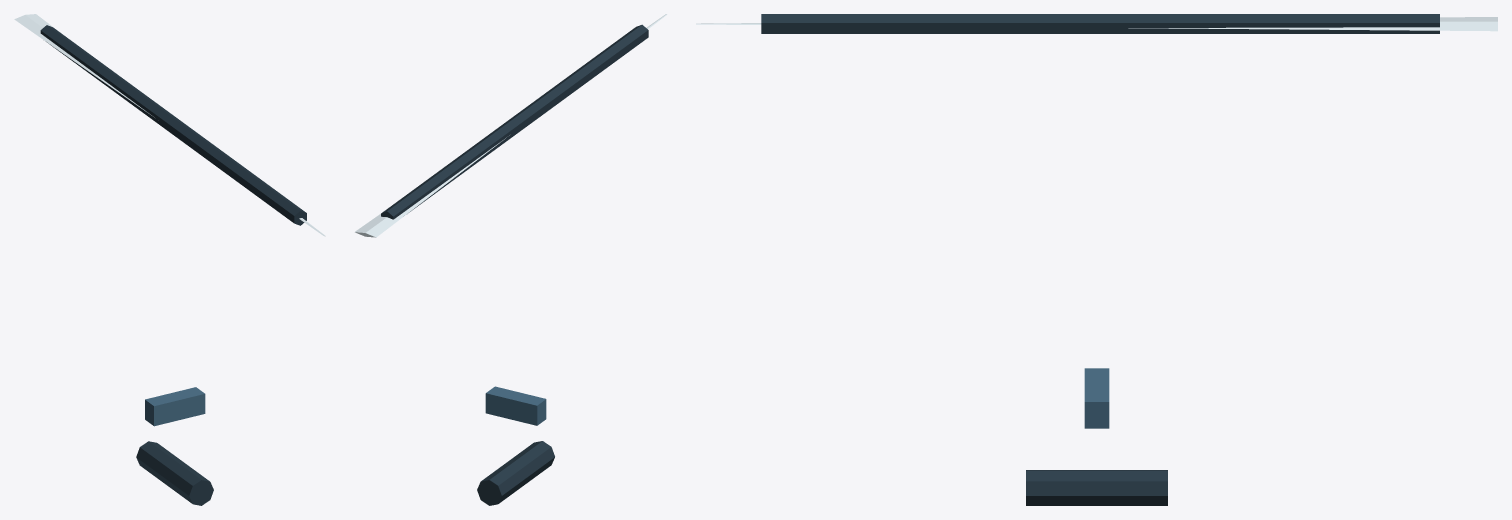
The model's file is default_blade.glb.
3 renders of one model, left to right at view 1: azimuth 30°, elevation 25°; view 2: azimuth 150°, elevation 25°; view 3: azimuth 270°, elevation 25°, orthographic. The views are drawn at different scales.
Visible parts, largest first — view 1: default_blade; view 2: default_blade; view 3: default_blade.
Part boxes in pixels (x1,y1,x2,y2): default_blade: (14,14,325,505); default_blade: (354,14,667,505); default_blade: (696,14,1497,505).
Bounding box in the file's own units: 0.256 × 1.76 × 2.6.
